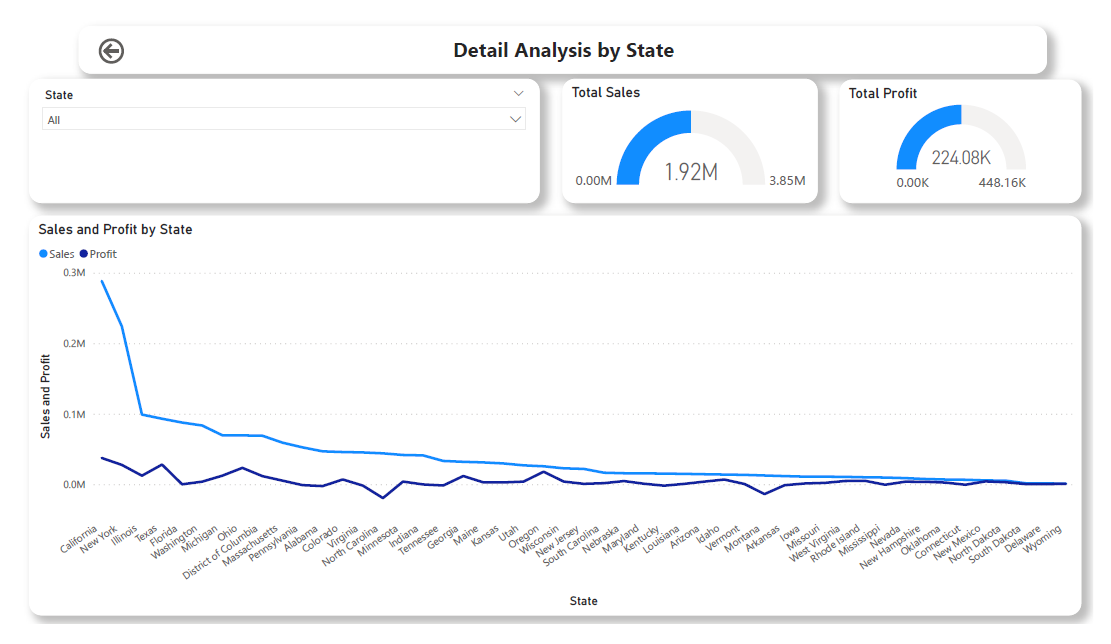

Layout of this report page (visuals, bound fields, positions):
{"tool":"powerbi","page":{"name":"Detail Analysis by State","canvas":[1280,720],"ordinal":1},"visuals":[{"type":"textbox","box":[72.4,8.4,1153,56.7],"z":0},{"type":"slicer","fields":{"Values":["Order Details.State"]},"box":[13.3,71.2,607.8,148.3],"z":1000},{"type":"gauge","fields":{"Y":["Order Details.Total Sales"]},"box":[647.6,71.2,303.9,148.3],"z":2000},{"type":"gauge","fields":{"Y":["Order Details.Total Profit"]},"box":[978.1,72.4,288.2,147.1],"z":3000},{"type":"lineChart","fields":{"Category":["Order Details.State"],"Y":["Sum(Order Details.Sales)","Sum(Order Details.Profit)"]},"box":[13.3,234,1253.1,476.4],"z":5000},{"type":"actionButton","box":[90.6,17.9,42.6,39.8],"z":6000}]}

Visuals, with their boxes in screenshot pixels (x1, y1, x2, y2), scaled from the page's 1280x720 canvas onto the 1111x644 screenshot:
textbox: box(63, 8, 1064, 58)
slicer - Order Details.State: box(12, 64, 539, 196)
gauge - Order Details.Total Sales: box(562, 64, 826, 196)
gauge - Order Details.Total Profit: box(849, 65, 1099, 196)
lineChart - Order Details.State x Sum(Order Details.Sales): box(12, 209, 1099, 635)
actionButton: box(79, 16, 116, 52)
